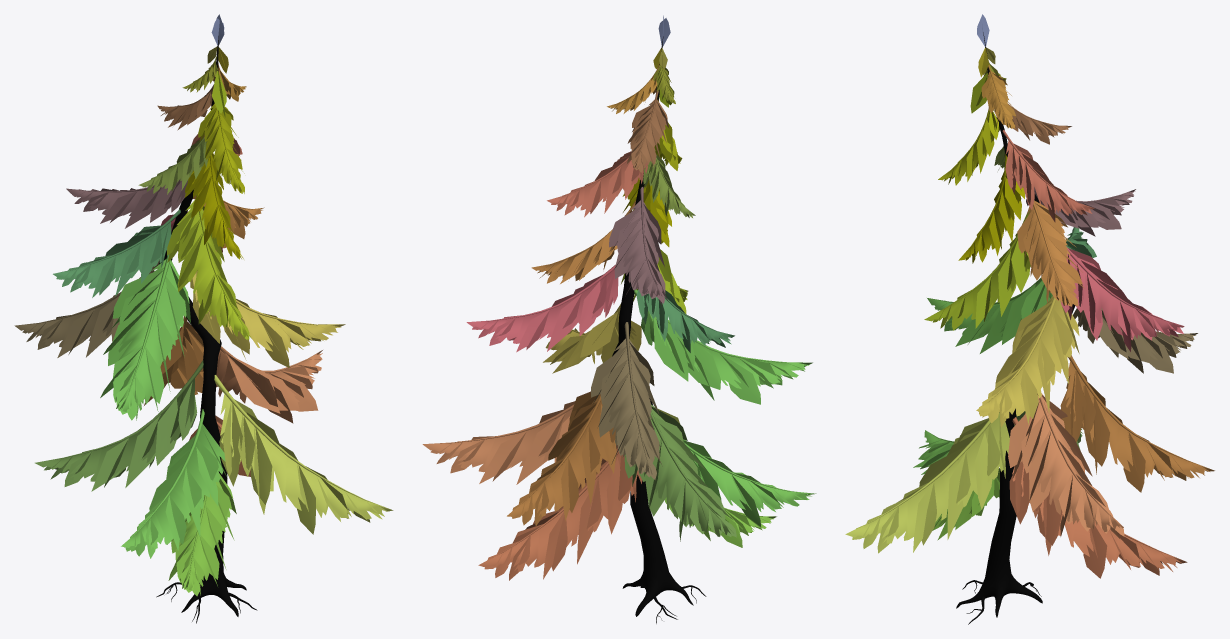
File: SM_Spruce_Crooked_vc.fbx
The picture shows the model from 3 angles, left to right: view 1: azimuth 30°, elevation 25°; view 2: azimuth 150°, elevation 25°; view 3: azimuth 270°, elevation 25°; orthographic projection. The views are drawn at different scales.
Visible parts, largest first — view 1: SM_SpruceCrooked_vc.mo; view 2: SM_SpruceCrooked_vc.mo; view 3: SM_SpruceCrooked_vc.mo.
Boxes of the visible parts, bbox=[...] form: SM_SpruceCrooked_vc.mo: bbox=[14, 14, 393, 623]; SM_SpruceCrooked_vc.mo: bbox=[422, 15, 816, 623]; SM_SpruceCrooked_vc.mo: bbox=[845, 14, 1214, 624].
Size of the model in its own units: 1711 by 3216 by 1814.
